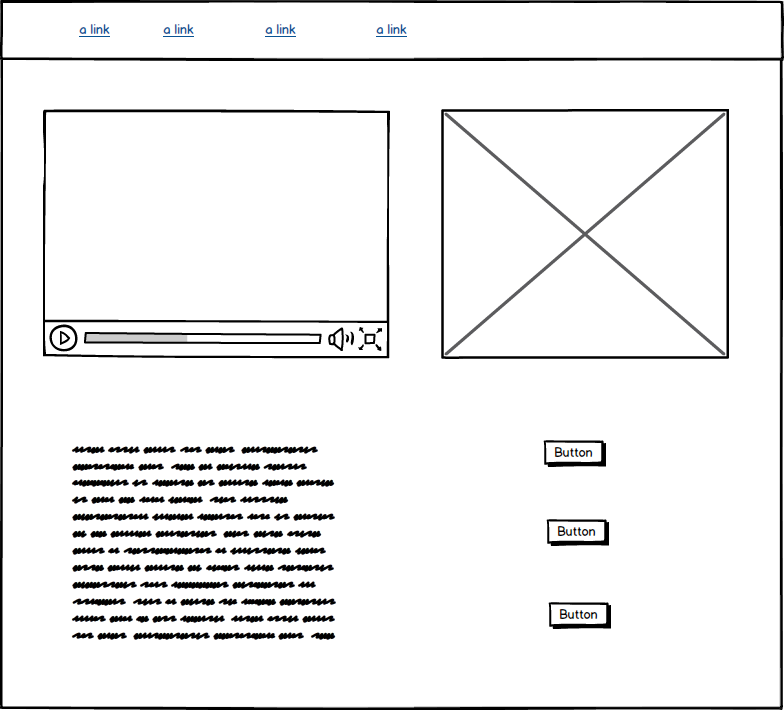button: (539, 432, 613, 472), (542, 596, 618, 633), (542, 515, 617, 547)
image: (433, 102, 740, 367)
navlink: (252, 17, 308, 41), (372, 17, 412, 45), (74, 19, 118, 42), (156, 17, 198, 41)
p: (67, 438, 345, 651)
video: (38, 104, 394, 366)
